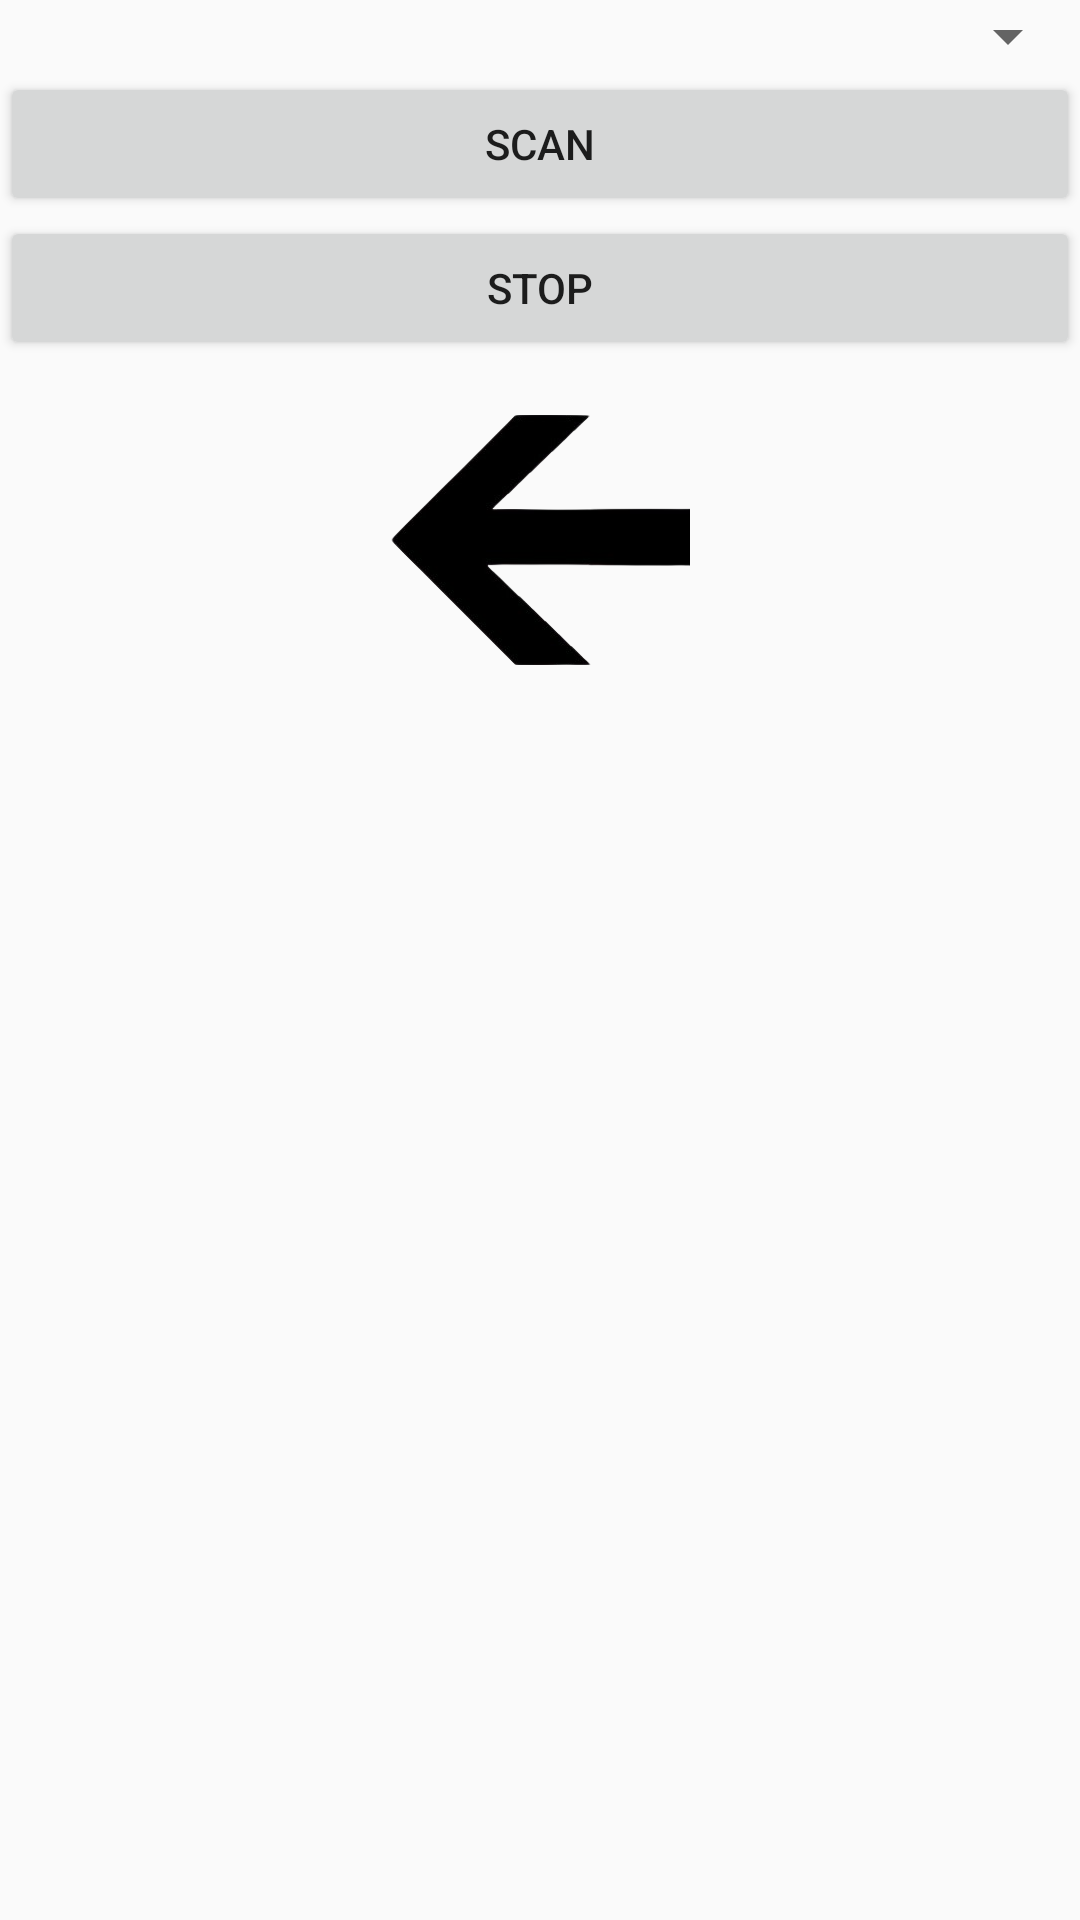

Named icons in this screenshot (1080 × 1920) and their bounding boxes, (x1, y1, x2, y2):
arrow: (392, 415, 690, 665)
